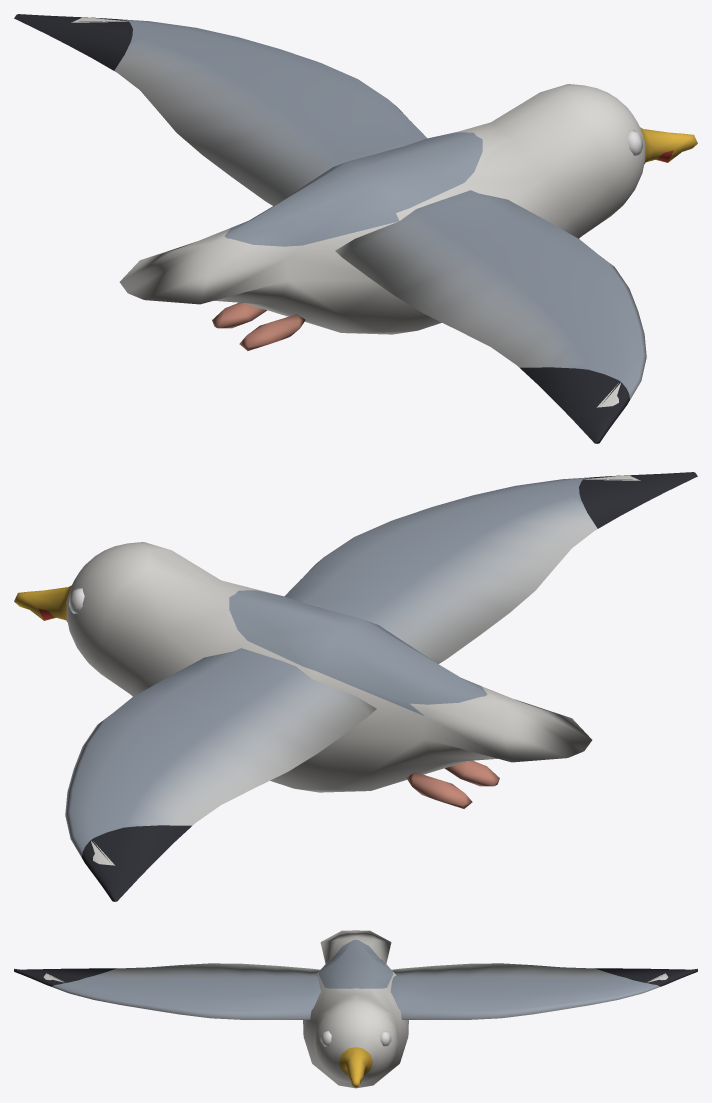
File: Seagull.fbx
3 views of the same model, one above another, from view 1: azimuth 30°, elevation 25°; view 2: azimuth 150°, elevation 25°; view 3: azimuth 270°, elevation 25° (orthographic). The views are drawn at different scales.
Visible parts, largest first — view 1: Body, WingR, WingL; view 2: Body, WingL, WingR; view 3: WingL, WingR, Body.
Part boxes in pixels (x1,y1,x2,y2): Body: [119, 84, 697, 350]; WingR: [335, 190, 646, 443]; WingL: [14, 14, 427, 205]; Body: [14, 542, 592, 808]; WingL: [65, 648, 376, 901]; WingR: [284, 472, 697, 663]; WingL: [390, 963, 697, 1019]; WingR: [14, 963, 320, 1019]; Body: [303, 930, 408, 1088].
Bounding box in the file's own units: 0.5076 × 0.1636 × 0.9.
